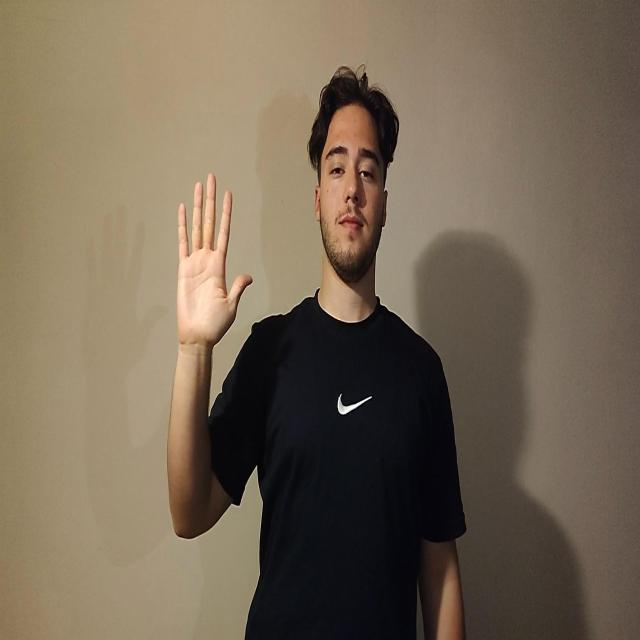hello: (175, 172, 252, 348)
